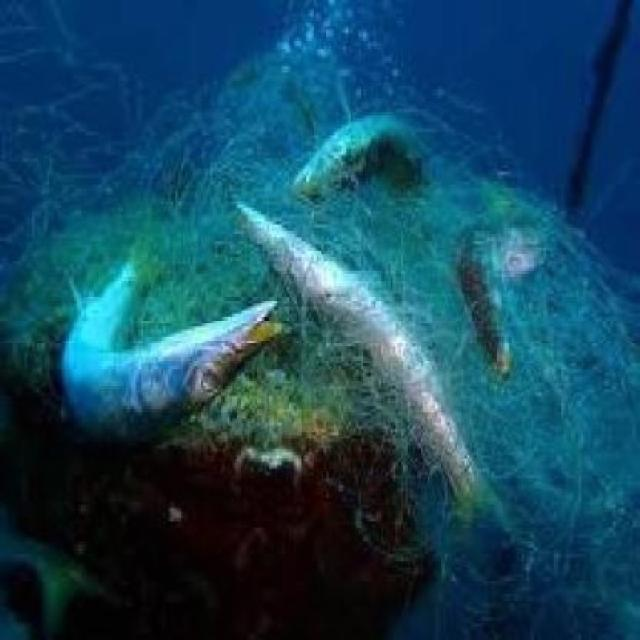net: (64, 79, 640, 557)
